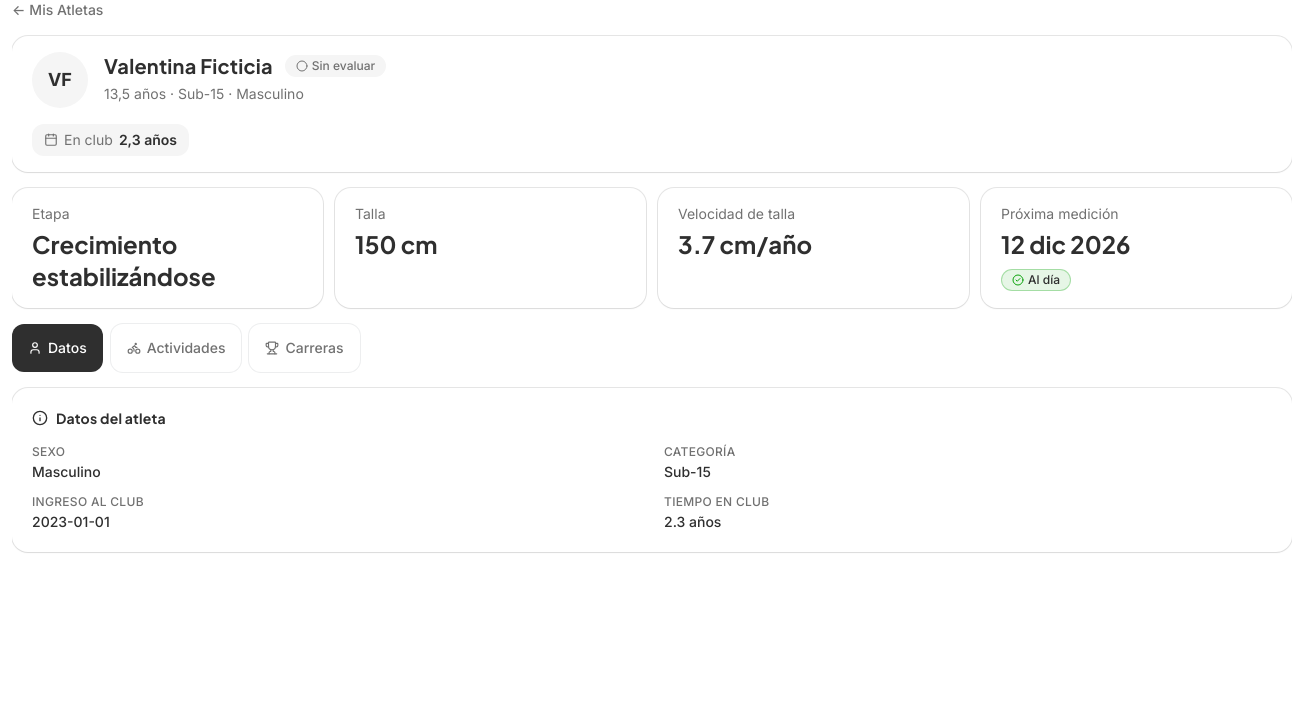
Test case: MyAthleteDetailPage — Carreras › Progresión (padre, features 044 US7 + 045) › tono cálido: dice 'tu hijo o hija' en el subtítulo, nunca 'el atleta' (T083 MINOR) — sin enhebrar el nombre real
Click the button with test id "parent-tab-races" at [304, 348], box [250,324,360,372]
(page scrolled)
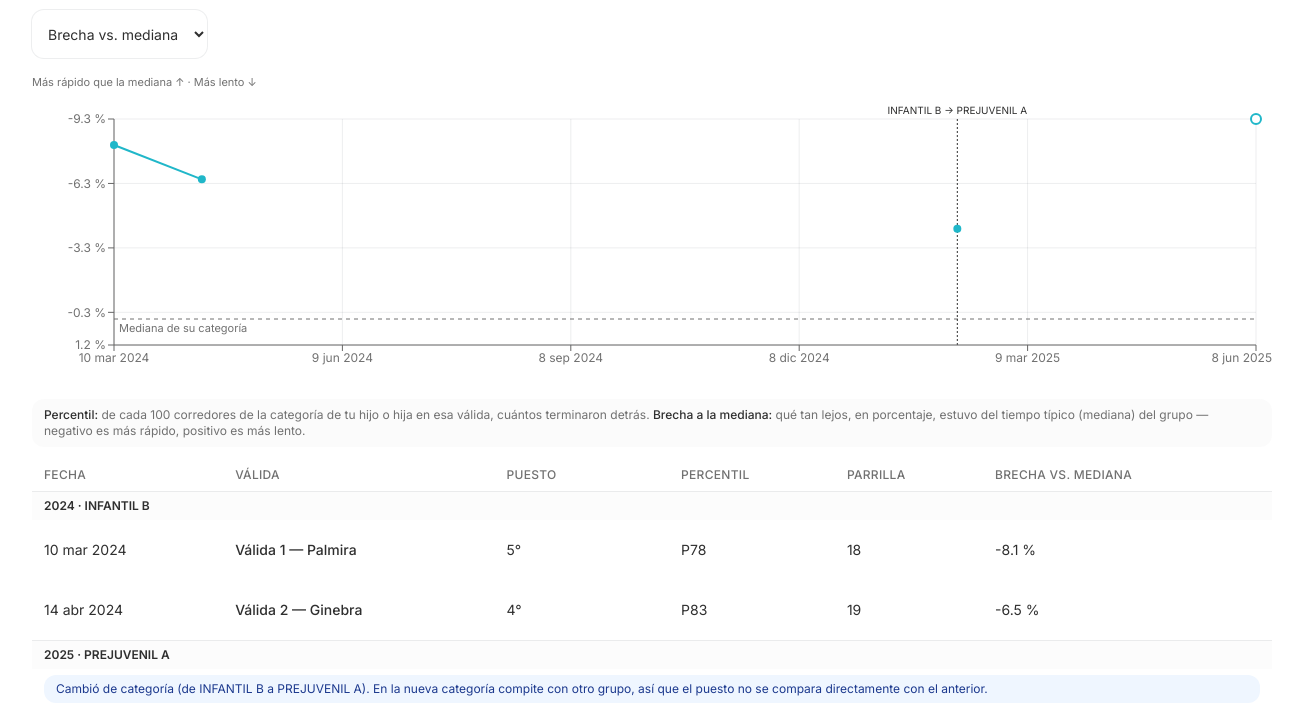
Expected: the element with test id "progression-view" does not show "valentina"
Result: the heading with test id "progression-view" no longer shows "el atleta"
